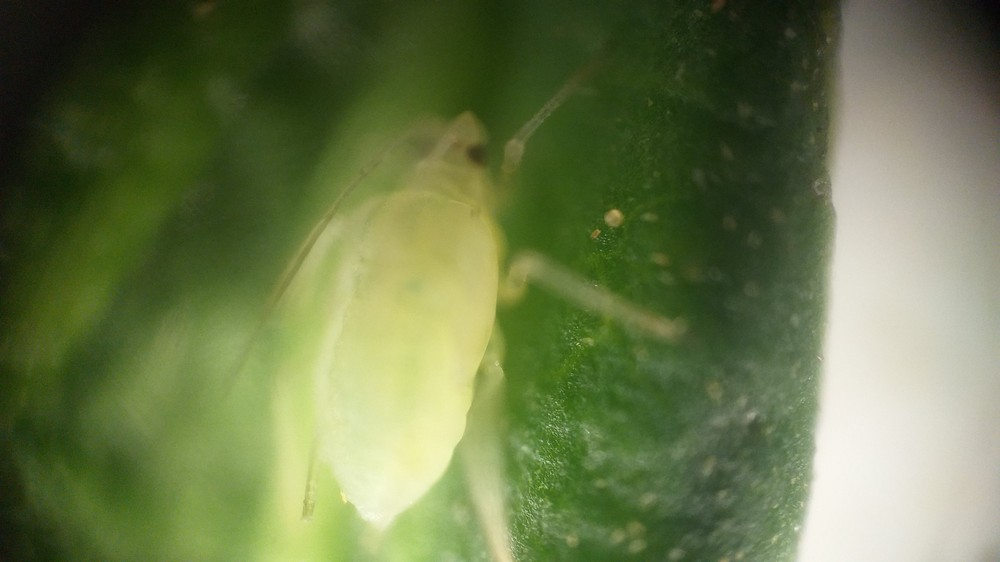Pulgon: (207, 61, 696, 560)
